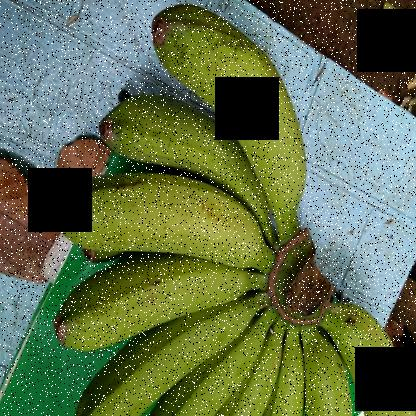freshunripe: (145, 2, 314, 218), (99, 85, 274, 238), (63, 302, 260, 415), (51, 178, 268, 276), (53, 264, 237, 357), (167, 308, 274, 415), (295, 335, 356, 415)
unripe: (335, 289, 415, 415)
